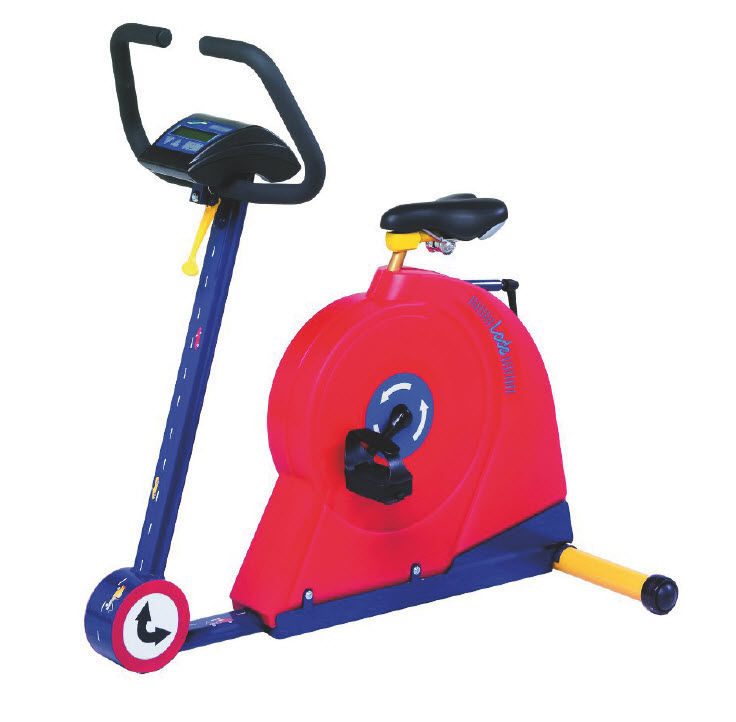gym_bike: (65, 20, 690, 695)
